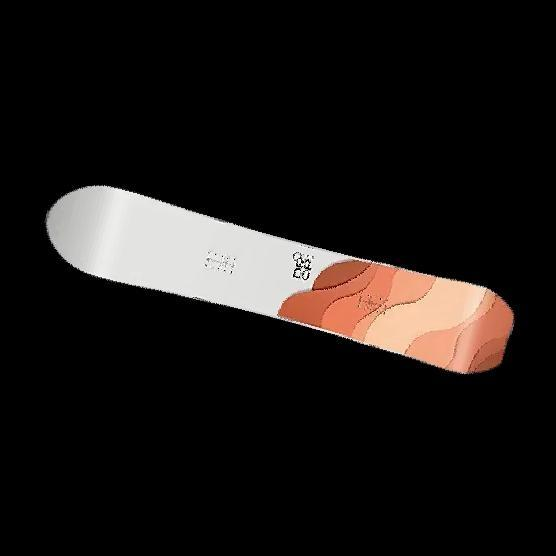Snowboard: (44, 169, 528, 388)
